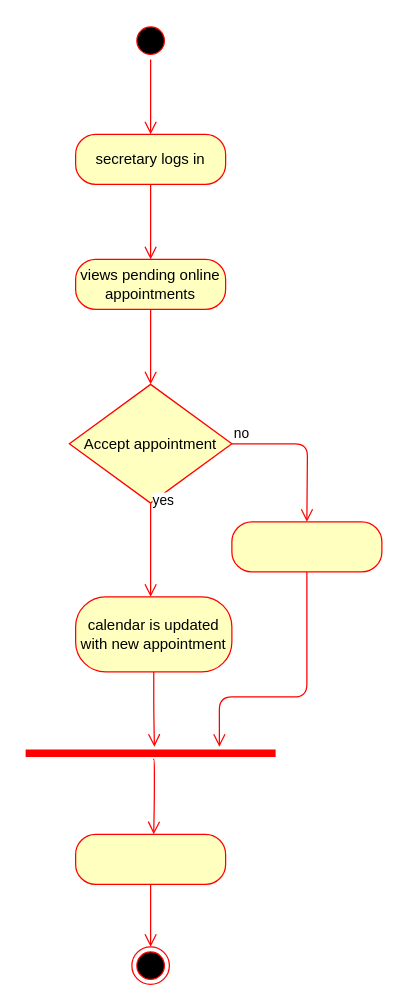
This 404x1006 diagram has some shape labels left out. Here are the shapes that lost their labels. From the top down, the centre of each, then its label:
At (306,546): "Appointment is rejected".
At (150,858): "back to main page".
